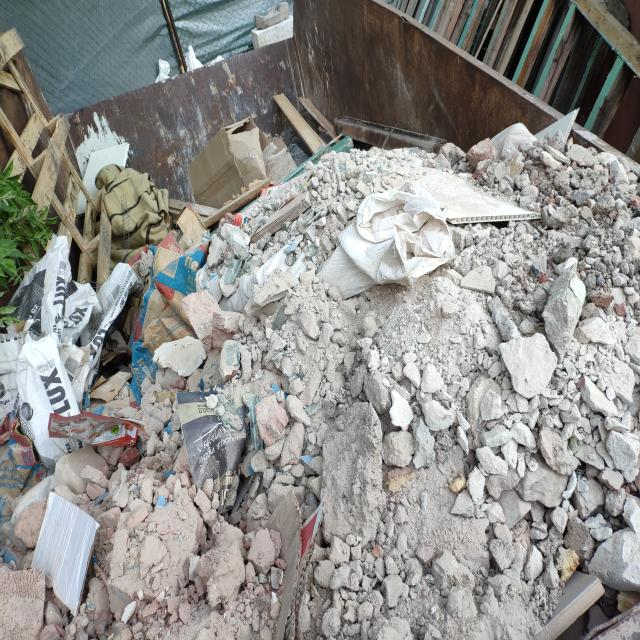entulho: (23, 253, 146, 418), (318, 180, 456, 304), (133, 203, 210, 403), (2, 426, 145, 522), (176, 111, 284, 223), (0, 25, 58, 183), (81, 167, 171, 267), (32, 491, 102, 610)
